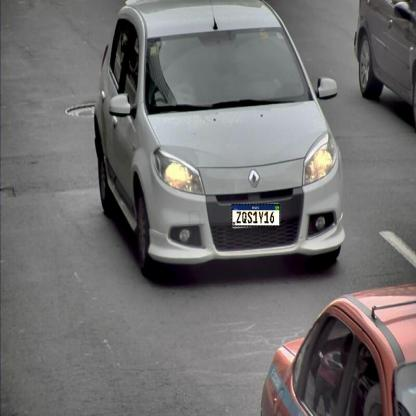PlacaM: (232, 204, 280, 227)
